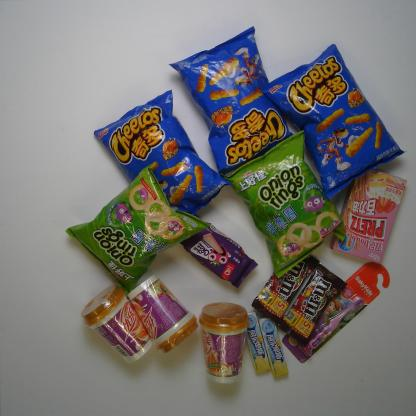Candy: (258, 315, 290, 379), (244, 310, 270, 376)
Chocolate: (279, 263, 348, 340), (252, 254, 322, 322)
Dessert: (331, 164, 408, 264), (179, 214, 260, 292)
Instant Drink: (82, 284, 152, 364), (129, 275, 198, 353), (199, 302, 247, 386)
Personal Hygiene: (282, 262, 391, 366)
Puffed Food: (260, 44, 406, 201), (166, 24, 300, 179), (65, 161, 211, 299), (226, 129, 350, 278), (90, 89, 234, 217)
